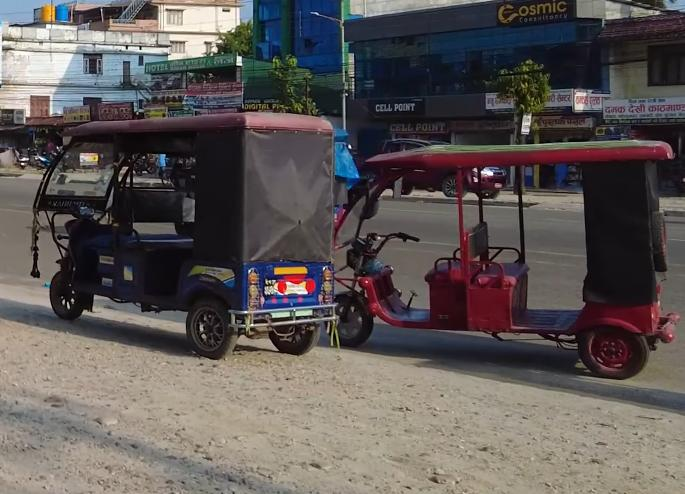e-rickshaw: (324, 139, 679, 381), (31, 106, 340, 366)
